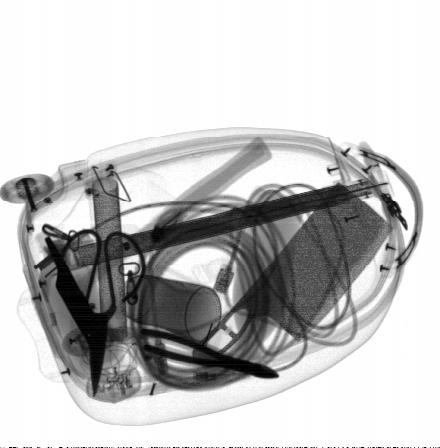Hammer: (45, 135, 273, 337)
Knife: (192, 181, 393, 368)
Pliers: (140, 329, 280, 380)
Scissors: (55, 227, 148, 397)
